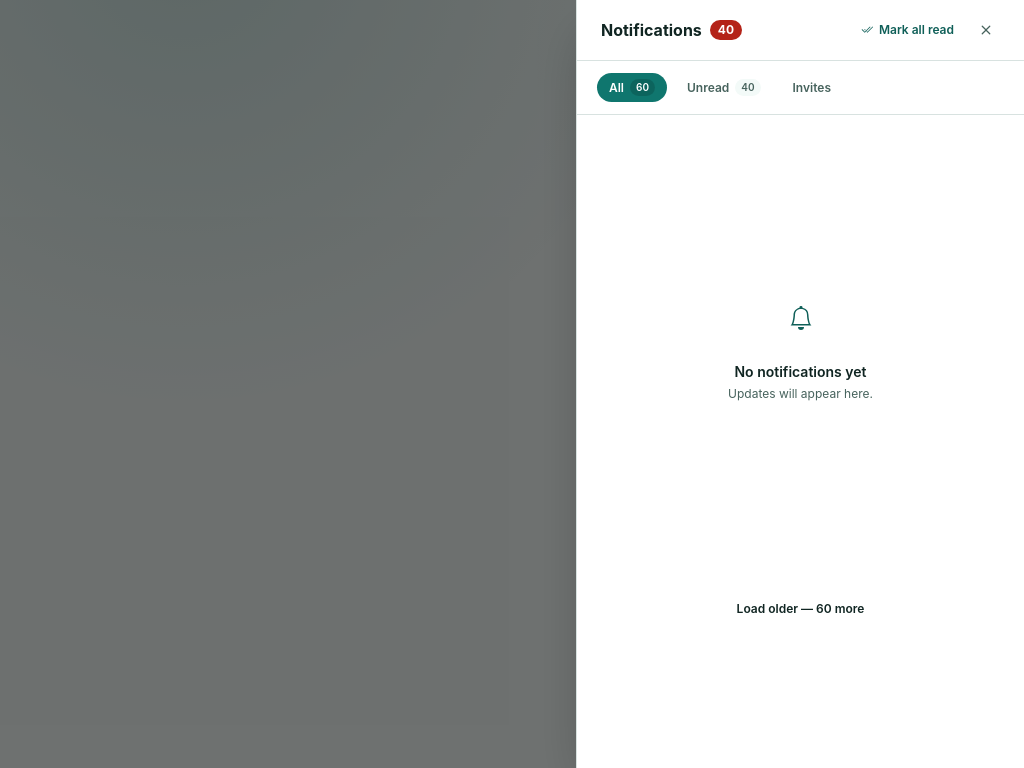
Test case: notification panel pagination affordances › keeps that note visible in the empty state as well
The image size is (1024, 768).
Click the button "Unread 40" at (724, 88), box [675,73,772,102]
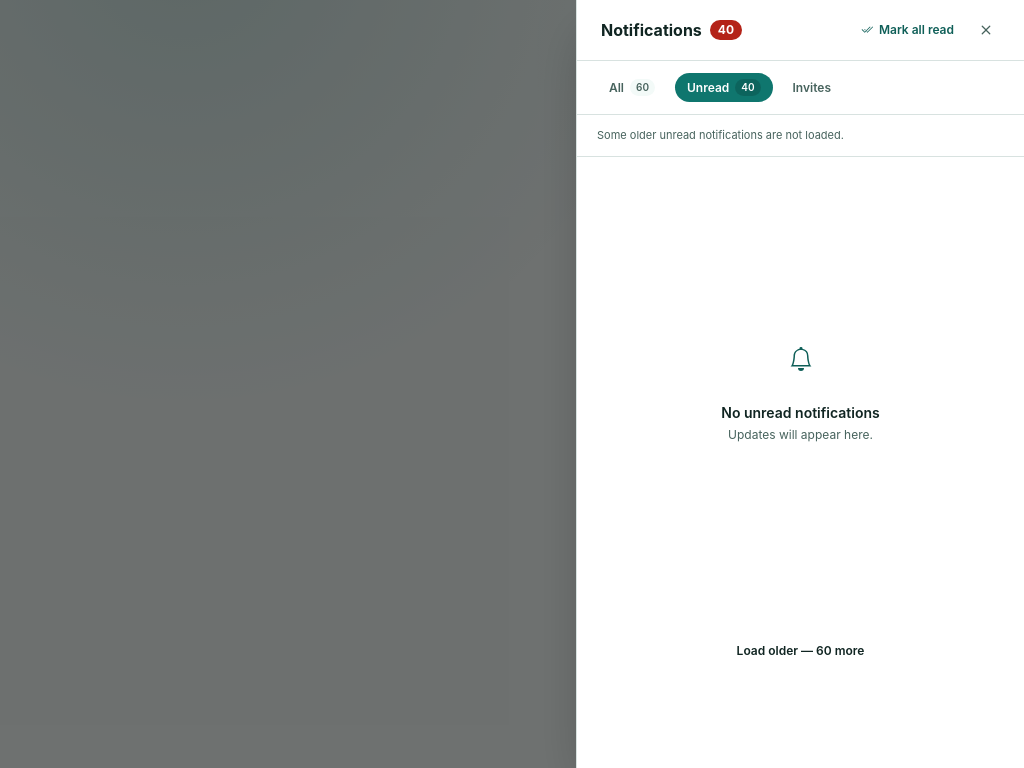
Expected: the text "No unread notifications" is shown, [721,403,880,423]
Expected: the text "Some older unread notifications are not loaded." is shown, [577,115,1023,157]
